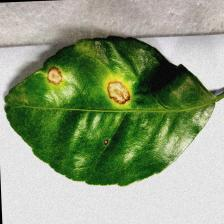canker: (38, 52, 140, 110)
